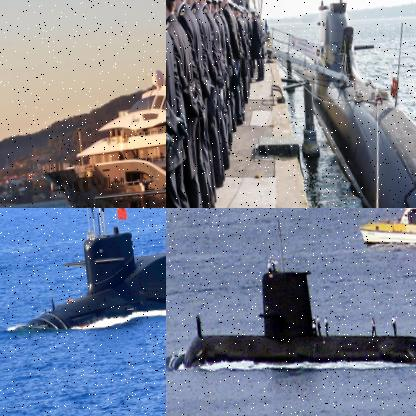Submarine: (169, 208, 415, 389), (284, 0, 415, 207), (6, 208, 165, 336)
Yacht: (21, 0, 165, 207), (356, 208, 415, 259)
